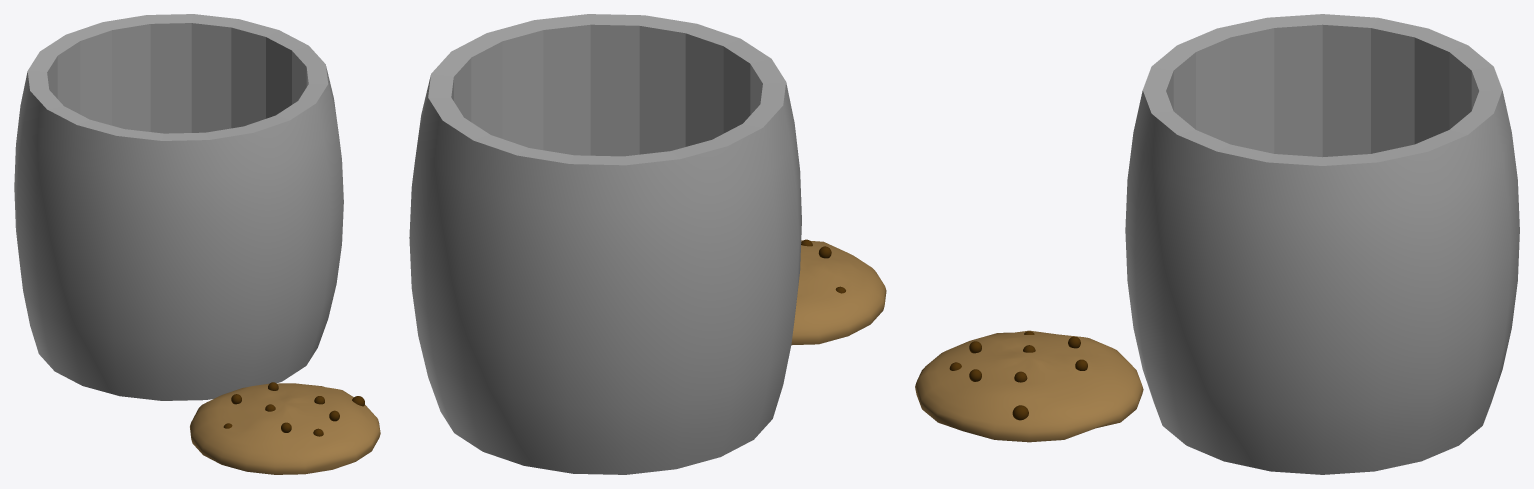
Rendered from cookie.fbx.
3 views of the same model, side by side, from view 1: azimuth 30°, elevation 25°; view 2: azimuth 150°, elevation 25°; view 3: azimuth 270°, elevation 25° (orthographic). The views are drawn at different scales.
Visible parts, largest first — view 1: pCylinder1, pSphere15; view 2: pCylinder1, pSphere15; view 3: pCylinder1, pSphere15.
Part boxes in pixels (x1=…): pCylinder1: x1=14, y1=14, x2=343, y2=400; pSphere15: x1=190, y1=382, x2=380, y2=474; pCylinder1: x1=409, y1=14, x2=801, y2=474; pSphere15: x1=791, y1=239, x2=886, y2=345; pCylinder1: x1=1125, y1=14, x2=1519, y2=474; pSphere15: x1=915, y1=330, x2=1143, y2=442.
Size of the model in its own units: 3.45 by 3.03 by 5.29.
